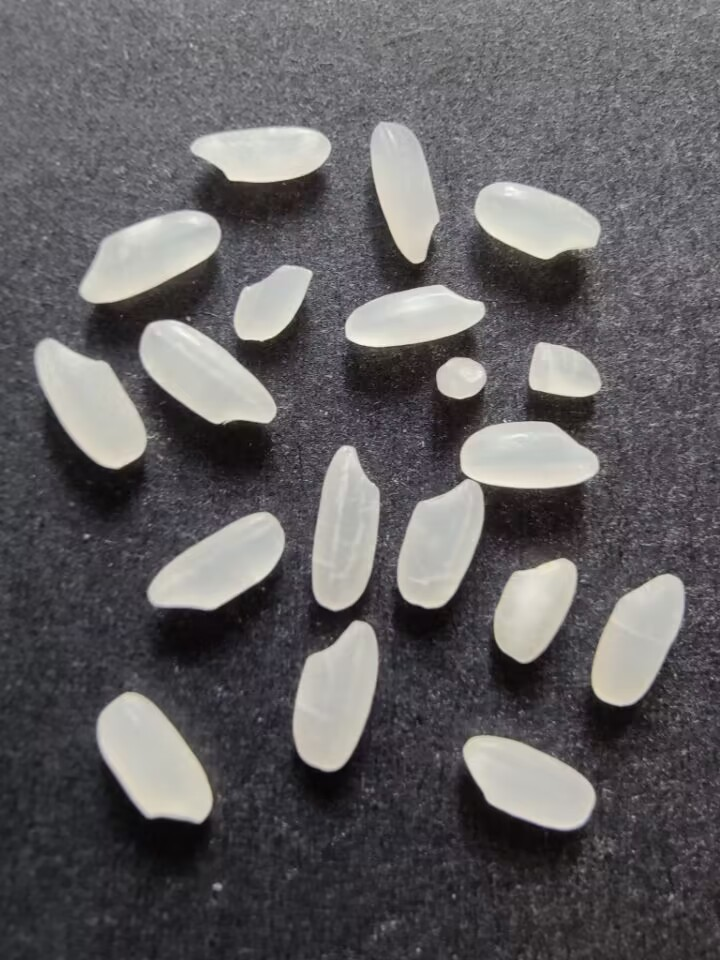broken: (231, 258, 314, 349), (523, 340, 607, 404), (432, 354, 489, 402)
rice: (133, 316, 281, 429), (32, 334, 151, 473), (93, 691, 217, 824), (142, 507, 289, 613), (287, 615, 380, 776), (457, 730, 599, 835), (74, 207, 226, 305), (306, 440, 384, 613), (588, 570, 687, 706), (393, 478, 485, 613), (471, 176, 603, 264), (368, 115, 443, 269), (486, 554, 580, 665), (454, 418, 601, 488), (340, 282, 488, 351), (186, 123, 335, 185)
